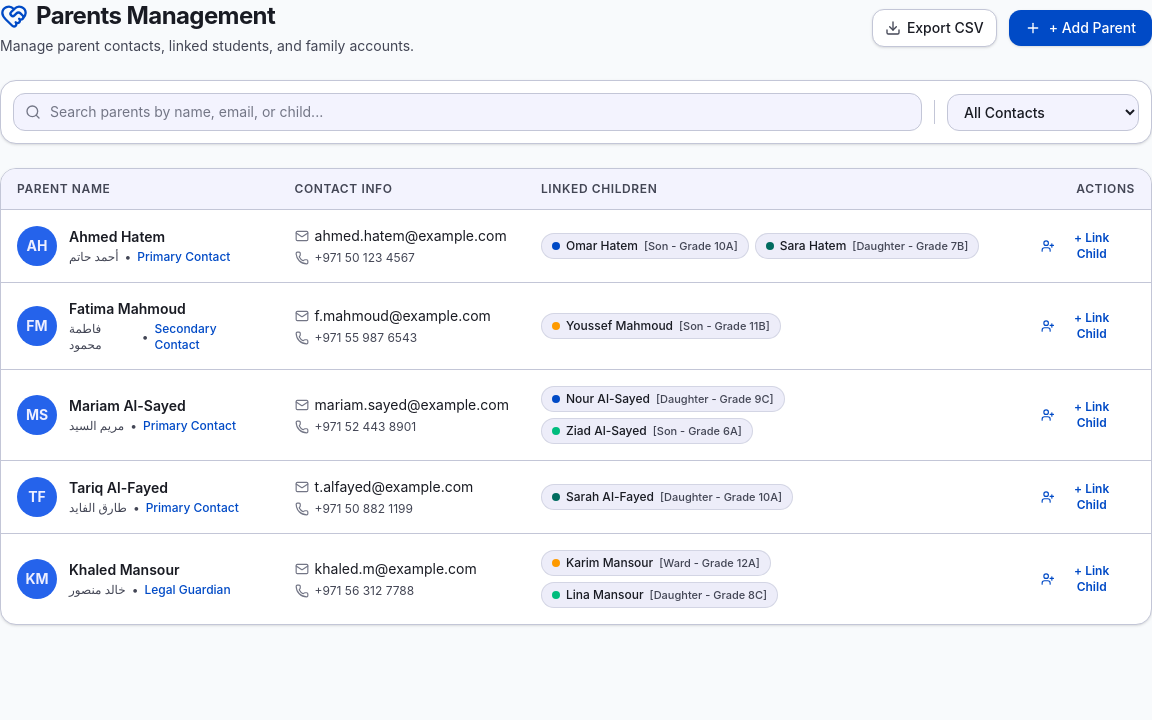
Test: ParentsPage (Parents Directory Stitch Clone) › opens Link Child drawer when + Link Child action is clicked
Step 1. Click the button "+ Link Child" in the row of "Ahmed Hatem" → (1083, 246), box [1031,226,1135,266]
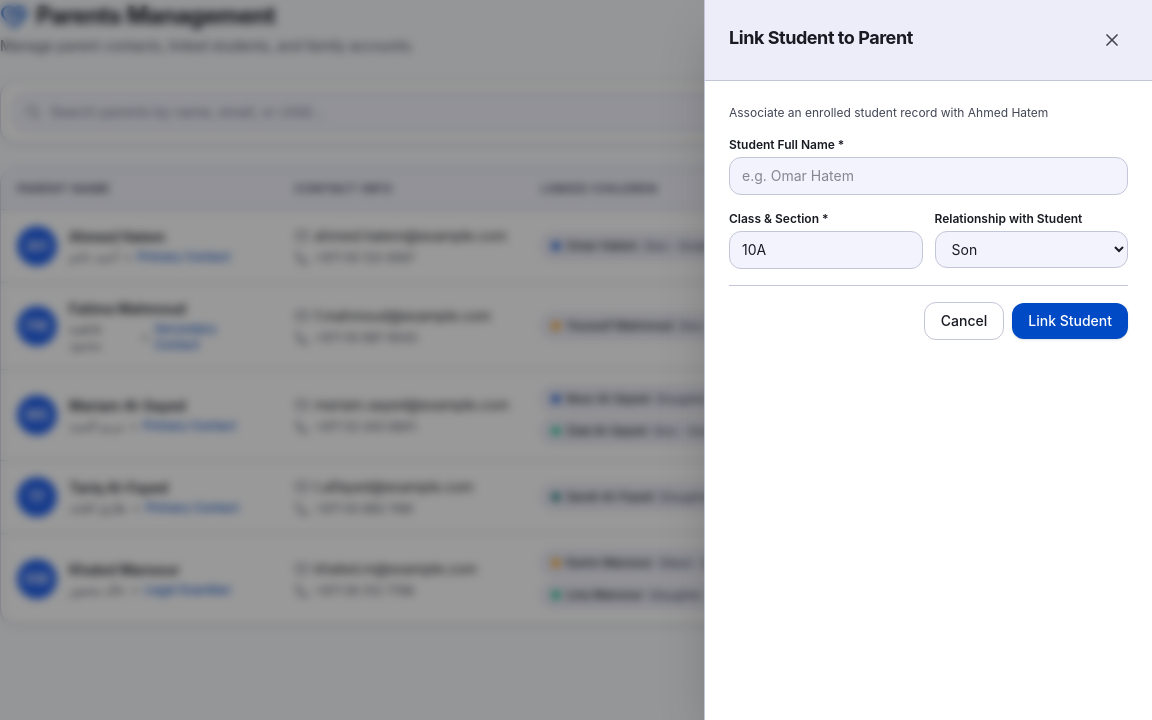
Expected: the heading "Link Student to Parent" is shown, [729,24,913,52]
Expected: the field with placeholder "e.g. Omar Hatem" is shown, [729,157,1128,195]
